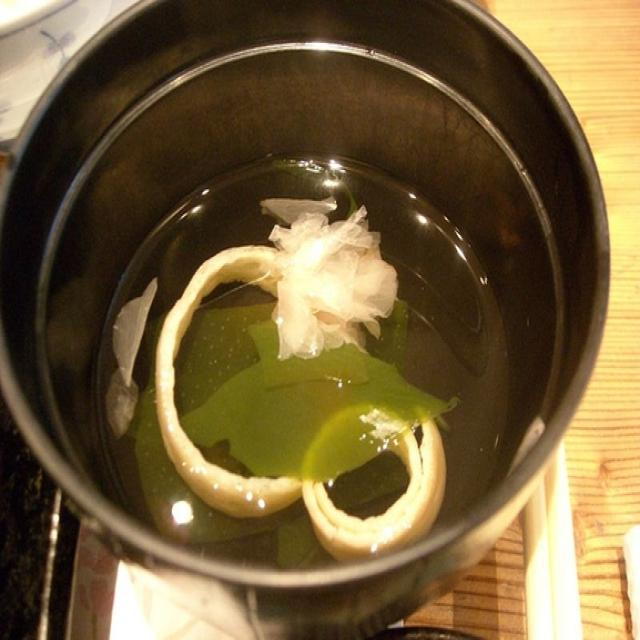汤锅炖物: (30, 24, 601, 598)
